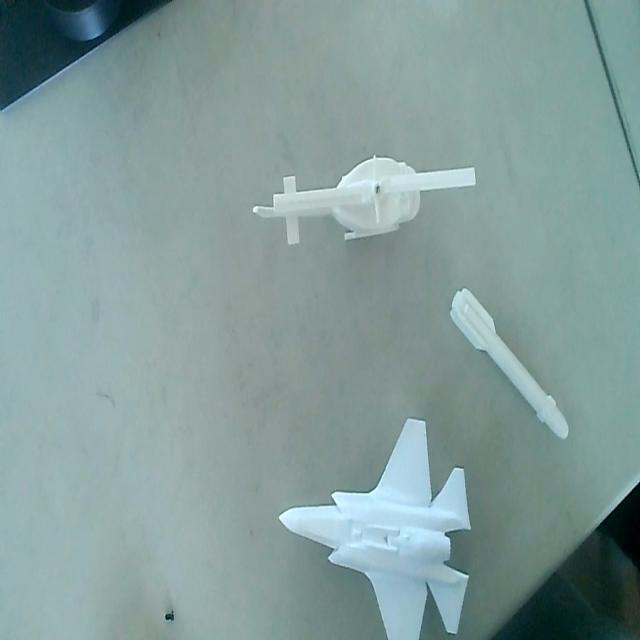Helicopter: (243, 138, 482, 253)
Jet: (278, 412, 476, 640)
Rocket: (447, 279, 573, 446)
